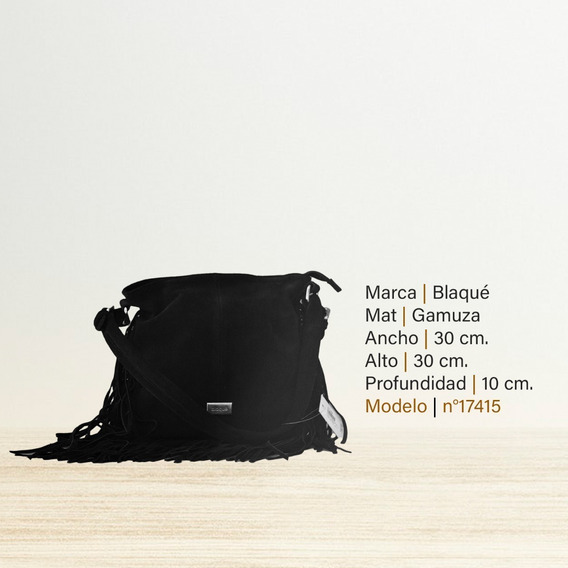cartera: (95, 268, 353, 463)
